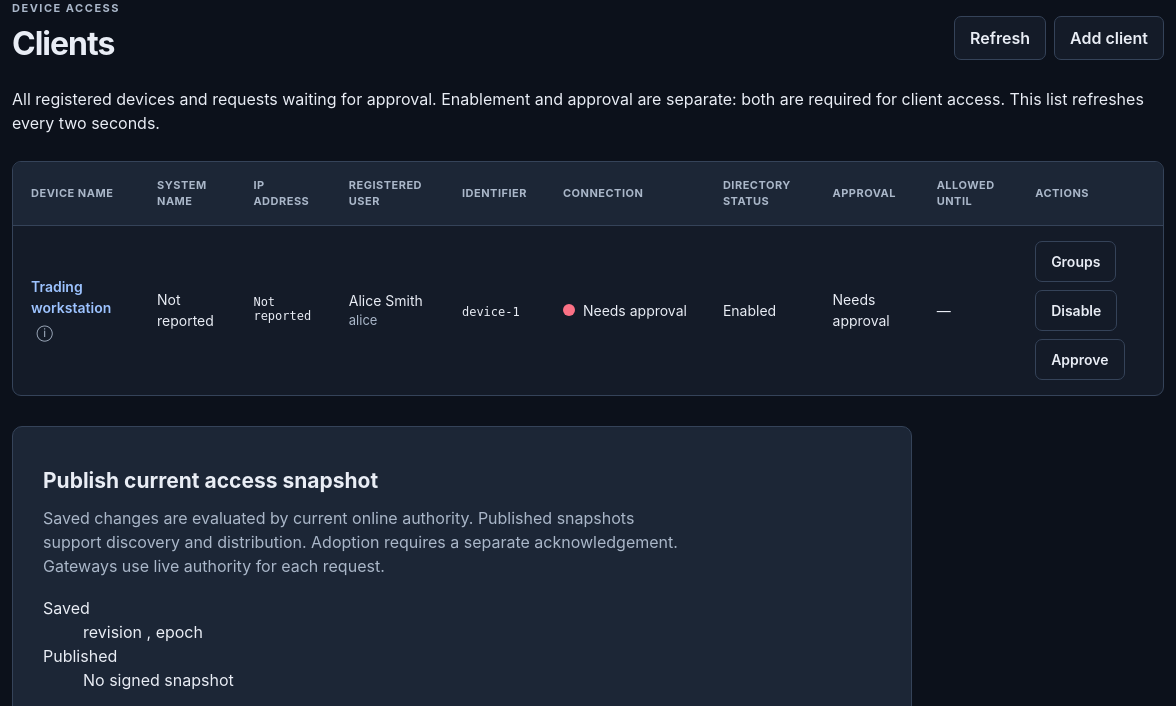
Scenario: Device management › reapproves the same enrolled owner for unlimited time and clears a stale decision on conflict
Click the button with aria-label "Approve device-1": {"x": 1080, "y": 359} [1035, 339, 1124, 380]
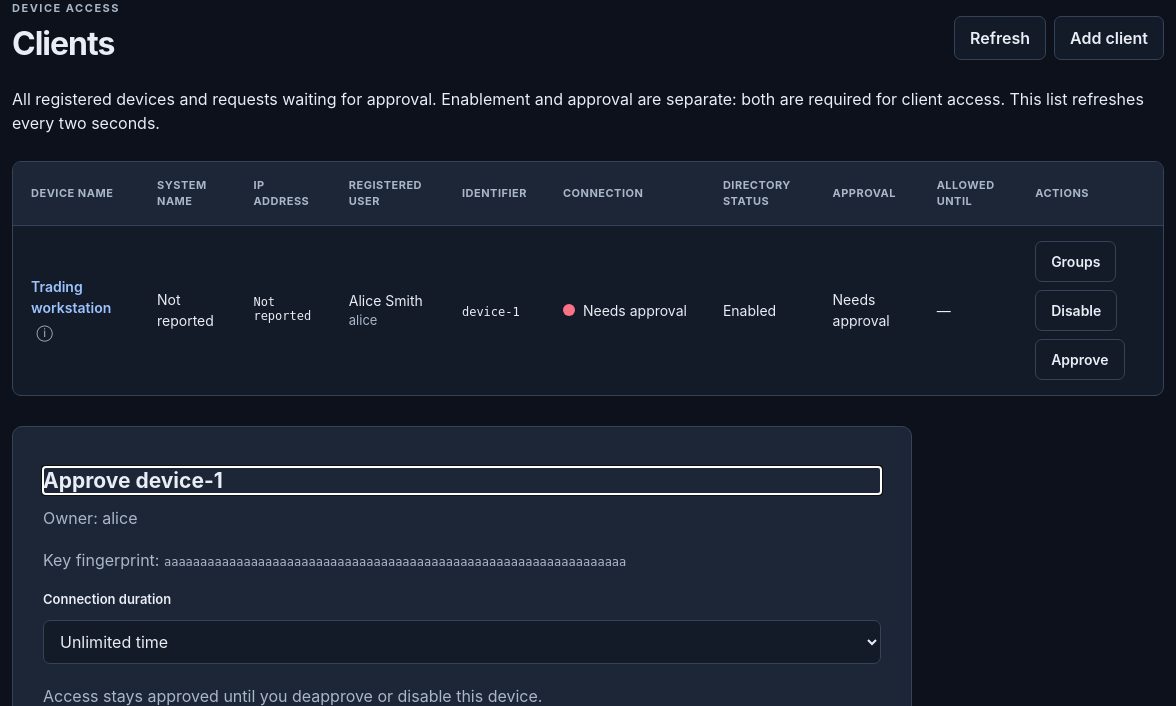
Select "Unlimited time" in the dropdown labelled "Connection duration": {"x": 462, "y": 642} [43, 620, 881, 664]
(page scrolled)
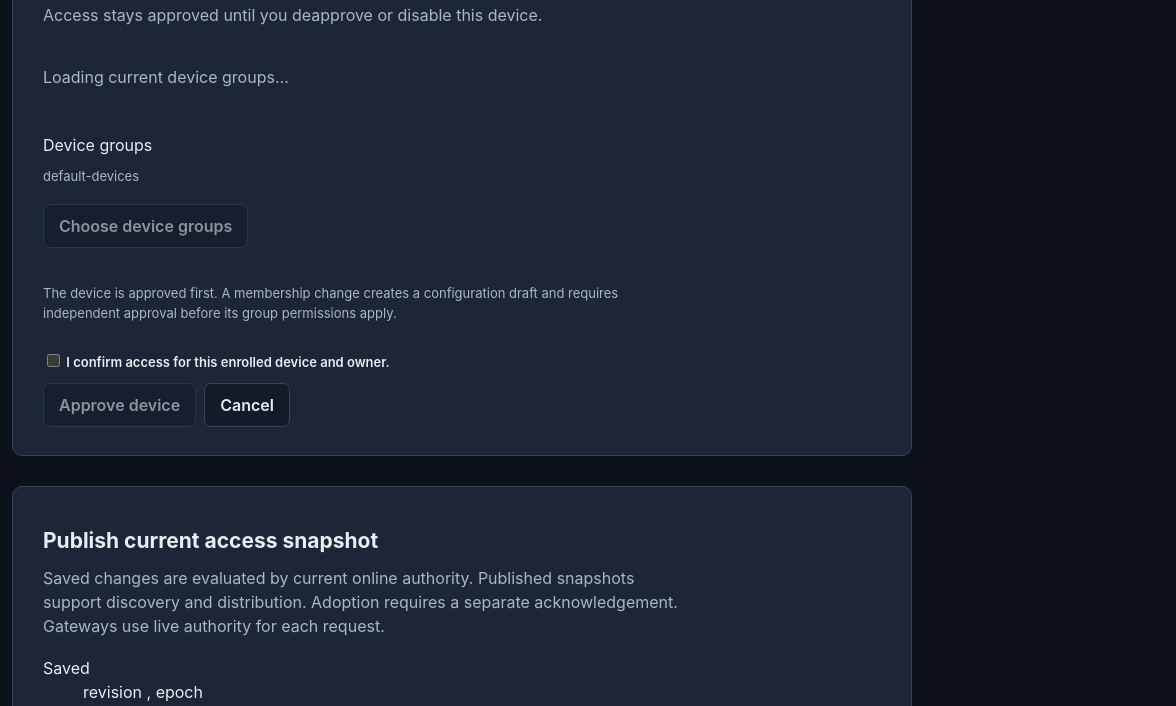
Click the checkbox: {"x": 54, "y": 361} [47, 354, 60, 367]
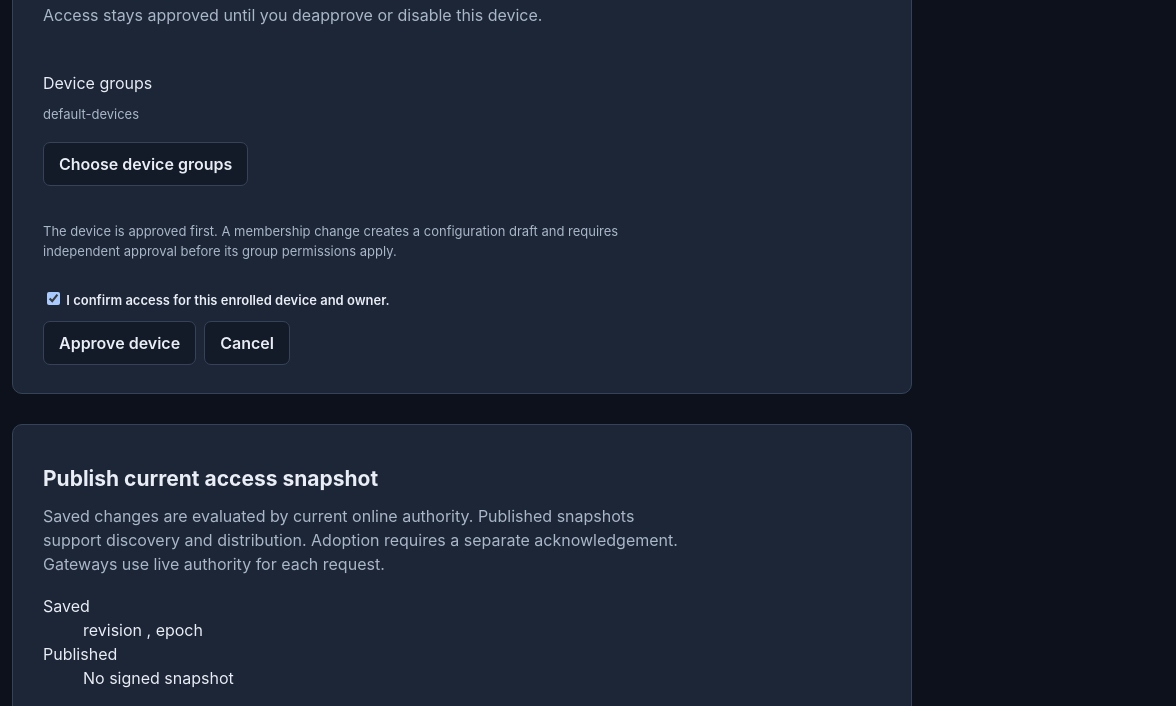
Expected: the button "Approve device" is enabled
Click the button "Approve device": {"x": 120, "y": 343} [43, 321, 196, 365]
(page scrolled)
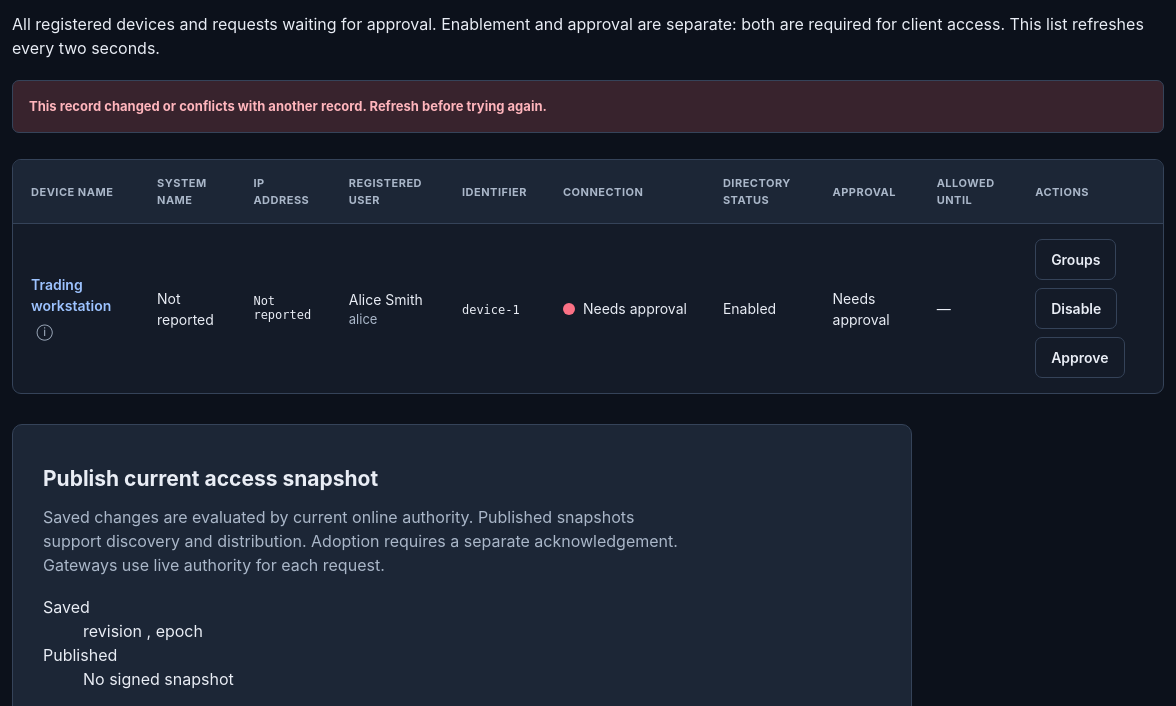
Expected: the message is shown, [12, 80, 1164, 133]
